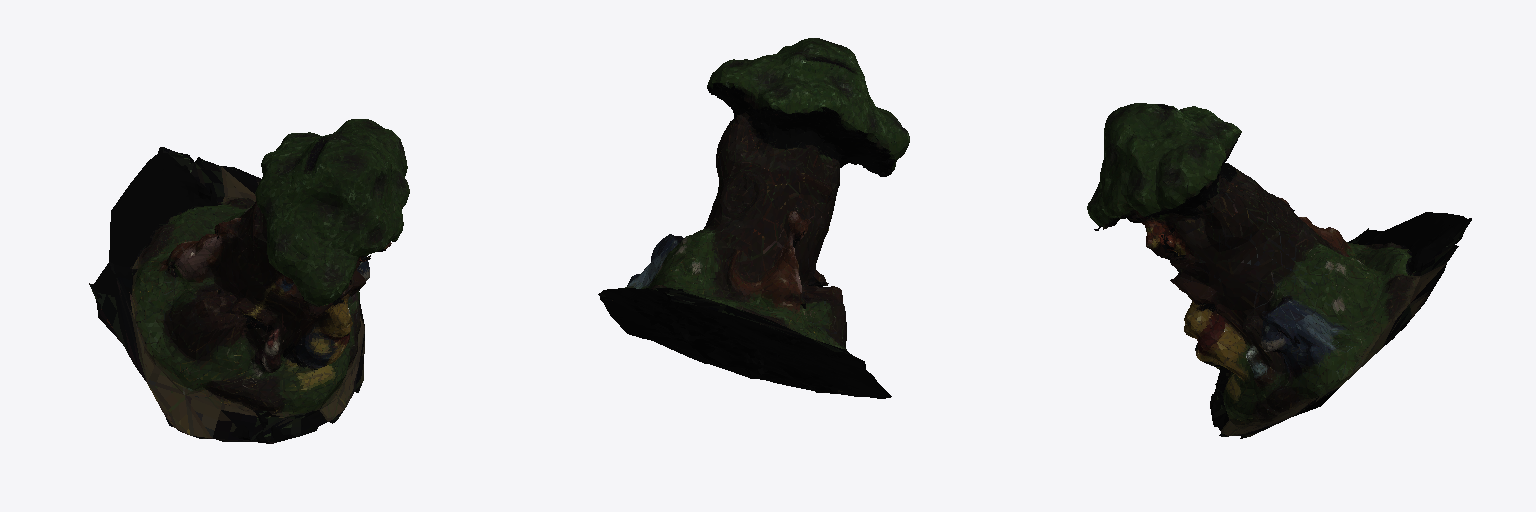
The picture shows the model from 3 angles: view 1: azimuth 30°, elevation 25°; view 2: azimuth 150°, elevation 25°; view 3: azimuth 270°, elevation 25°; orthographic projection.
Bounding box in the file's own units: 183 × 217 × 240.
Materials: 1 (1 with a texture image).